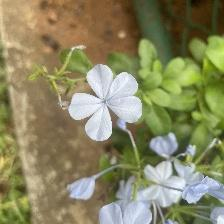chitrak: (68, 59, 149, 145), (134, 159, 188, 207), (149, 131, 192, 177), (98, 201, 155, 224), (66, 176, 97, 200)
